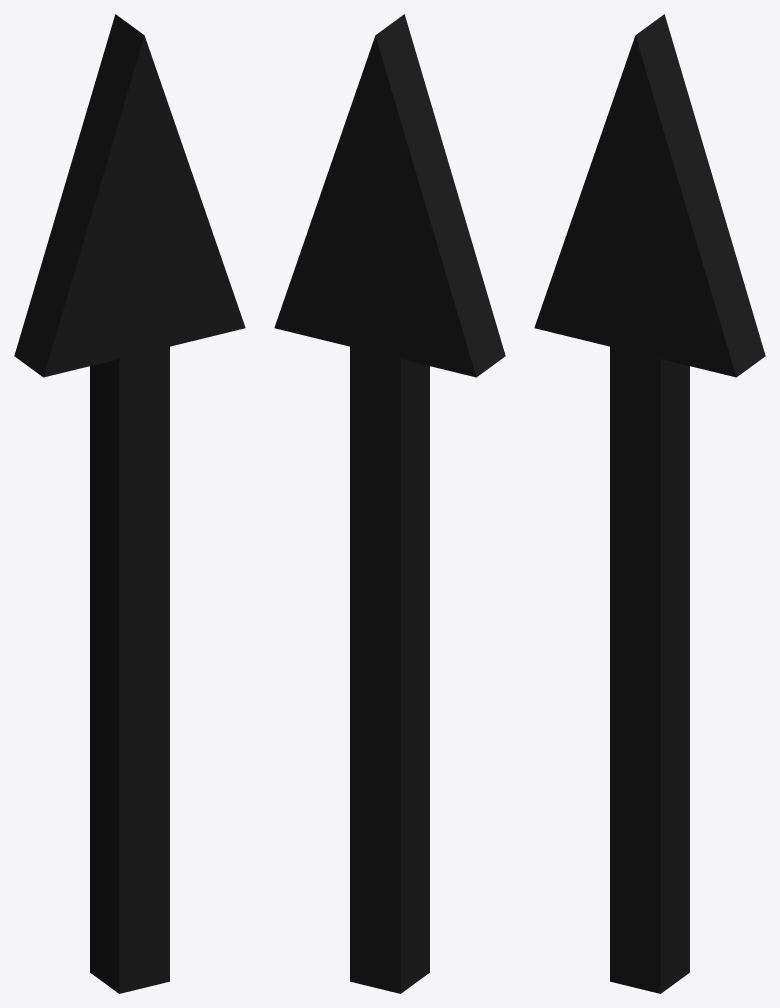
Rendered from gasarrow.fbx.
3 renders of one model, left to right at view 1: azimuth 30°, elevation 25°; view 2: azimuth 150°, elevation 25°; view 3: azimuth 330°, elevation 25°, orthographic.
Visible parts, largest first — view 1: cuboid; view 2: cuboid; view 3: cuboid.
Part boxes in pixels (left/top/right/bottom): cuboid: left=14, top=14, right=245, bottom=993; cuboid: left=274, top=14, right=505, bottom=993; cuboid: left=534, top=14, right=765, bottom=993.
Bounding box in the file's own units: 12.5 × 56.25 × 3.12.
Materials: 1 (1 with a texture image).
